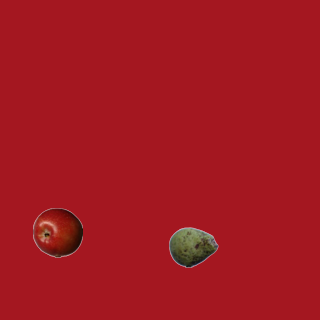Apple Braeburn: (32, 207, 82, 257)
Pear Stone: (168, 222, 218, 272)
